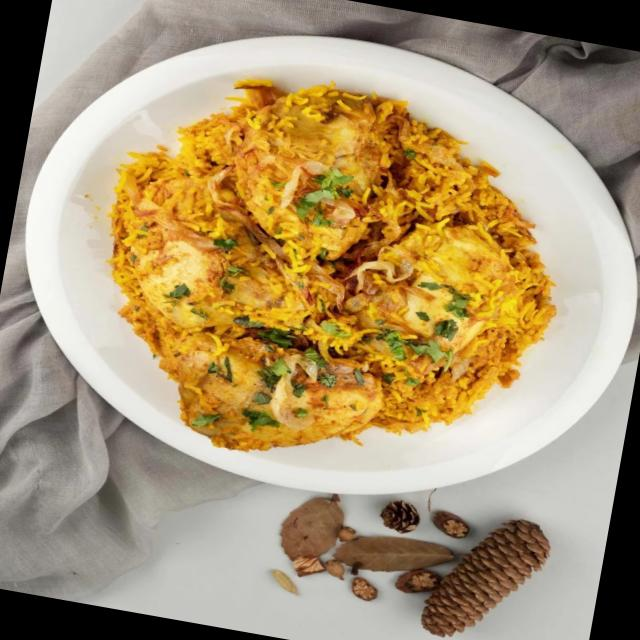Biryani: (73, 48, 586, 501)
